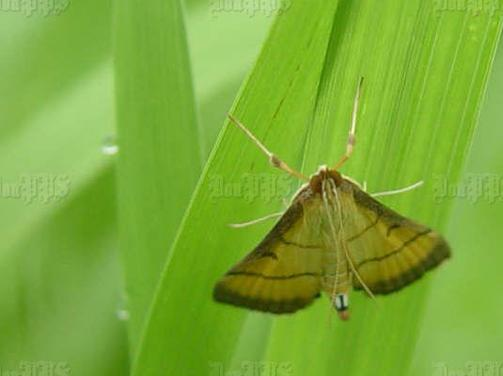pest: (231, 168, 434, 312)
